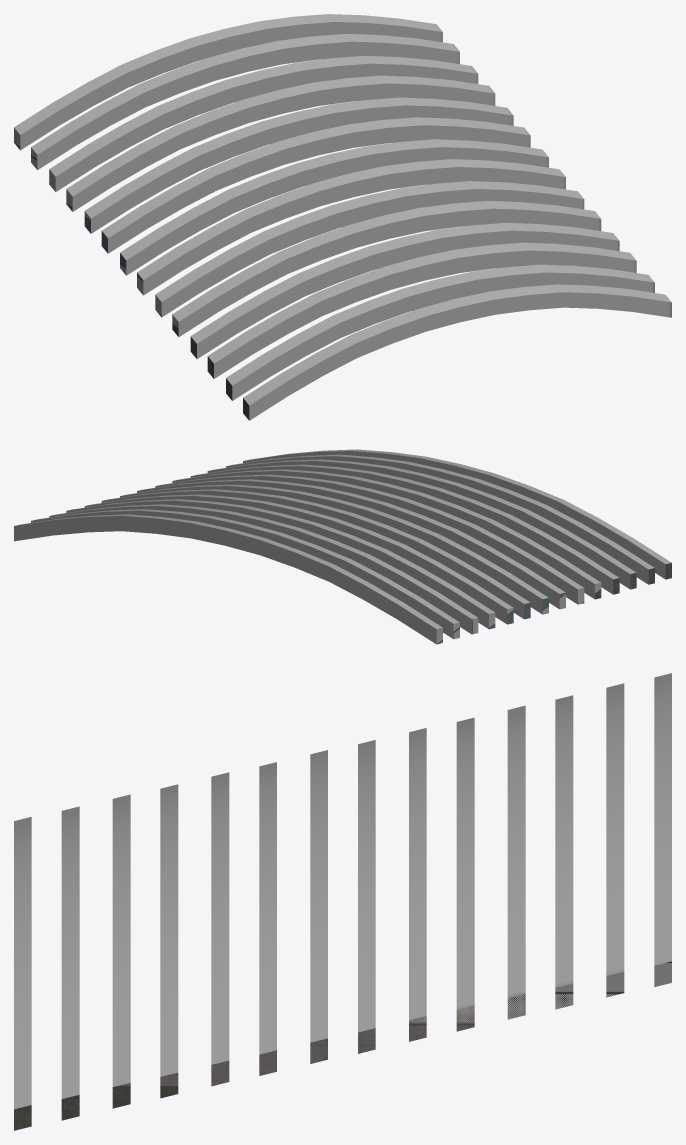
Rendered from arch.fbx.
3 views of the same model, one above another, from view 1: azimuth 30°, elevation 25°; view 2: azimuth 150°, elevation 25°; view 3: azimuth 270°, elevation 25° (orthographic). The views are drawn at different scales.
Visible parts, largest first — view 1: 12DR_Slope.010; view 2: 12DR_Slope.010; view 3: 12DR_Slope.010.
Part boxes in pixels (x1,y1,x2,y2): 12DR_Slope.010: [14, 14, 671, 420]; 12DR_Slope.010: [14, 449, 671, 644]; 12DR_Slope.010: [14, 673, 671, 1130].
Bounding box in the file's own units: 2300 × 876 × 2219.
